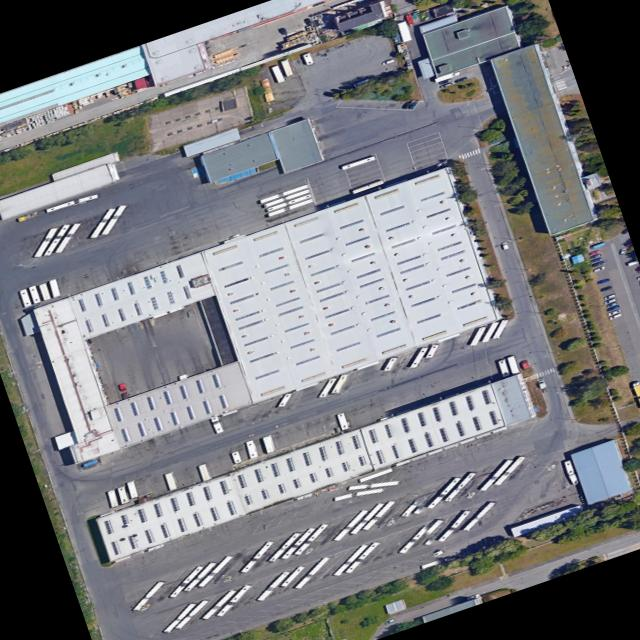large-vehicle: (293, 555, 331, 587), (280, 526, 317, 558), (215, 583, 252, 615), (348, 501, 385, 533), (331, 543, 369, 574), (196, 554, 233, 585), (292, 522, 329, 553), (332, 508, 369, 539), (343, 540, 380, 571), (168, 564, 204, 595), (425, 476, 461, 507), (478, 458, 513, 489), (44, 192, 98, 212), (161, 601, 197, 631), (437, 509, 471, 540), (201, 588, 237, 617), (255, 570, 291, 599), (360, 499, 396, 528), (240, 540, 274, 570), (131, 580, 165, 610), (182, 561, 217, 590), (266, 531, 301, 560), (174, 598, 209, 627), (258, 182, 308, 202), (461, 500, 495, 529), (443, 471, 477, 500), (266, 196, 314, 216), (493, 455, 526, 483), (263, 187, 309, 206), (265, 192, 311, 211), (42, 223, 70, 254), (53, 222, 81, 251), (398, 525, 429, 551), (89, 207, 116, 236), (100, 204, 127, 233), (333, 486, 384, 500), (33, 227, 57, 255), (347, 478, 400, 489), (358, 465, 393, 481), (340, 153, 375, 169), (279, 564, 305, 585), (351, 177, 384, 193), (317, 376, 338, 396), (408, 346, 429, 366), (563, 458, 579, 484), (330, 372, 350, 392), (434, 68, 462, 81), (468, 325, 487, 344), (481, 320, 499, 340), (422, 518, 444, 534), (400, 499, 421, 515), (492, 318, 509, 337), (210, 414, 226, 432), (261, 433, 276, 452), (270, 63, 285, 82), (244, 438, 258, 458), (336, 410, 350, 430), (47, 277, 61, 297), (279, 57, 294, 75), (106, 487, 120, 506), (125, 479, 139, 498), (198, 461, 212, 480), (506, 354, 520, 373), (18, 287, 32, 306), (27, 283, 41, 302), (37, 281, 51, 300), (164, 470, 177, 489), (497, 357, 510, 376), (382, 355, 399, 369), (423, 342, 440, 356), (117, 484, 129, 503), (301, 50, 315, 65), (632, 379, 640, 405), (277, 392, 292, 405), (231, 449, 242, 463)
small-vehicle: (352, 77, 370, 86), (465, 591, 480, 600), (589, 240, 605, 248), (520, 357, 531, 368), (591, 258, 606, 266), (537, 378, 549, 388), (608, 311, 622, 319), (589, 255, 604, 262), (454, 74, 467, 82), (383, 616, 396, 624), (381, 57, 395, 64), (401, 99, 413, 107), (603, 296, 616, 303), (596, 276, 609, 283), (592, 264, 605, 271), (607, 308, 620, 315), (302, 16, 312, 25), (118, 381, 127, 390), (599, 284, 612, 290), (439, 81, 452, 87), (438, 77, 450, 83), (603, 292, 615, 298), (501, 240, 509, 249), (588, 248, 600, 254), (278, 26, 287, 34), (607, 304, 619, 310), (589, 252, 600, 258), (606, 300, 616, 306), (408, 101, 417, 107), (619, 246, 625, 253)
